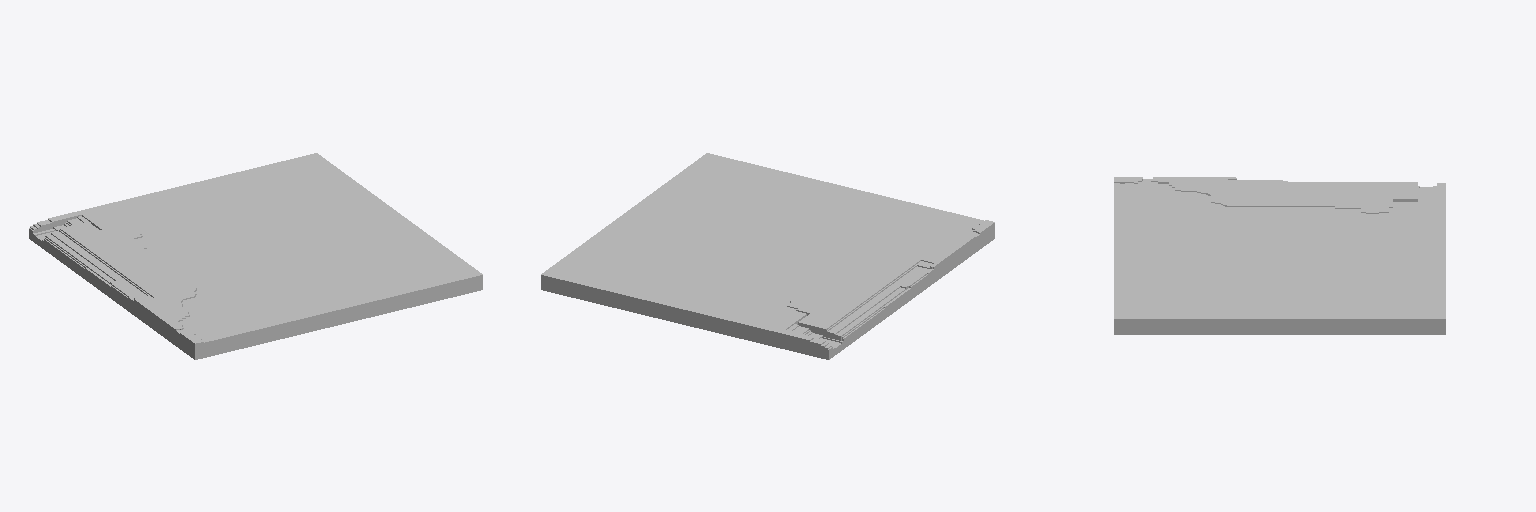
File: lvl1-4.obj
3 views of the same model, side by side, from view 1: azimuth 30°, elevation 25°; view 2: azimuth 150°, elevation 25°; view 3: azimuth 270°, elevation 25° (orthographic).
Visible parts, largest first — view 1: object 1; view 2: object 1; view 3: object 1.
Part boxes in pixels (left/top/right/bottom): object 1: left=29, top=153, right=482, bottom=359; object 1: left=541, top=153, right=994, bottom=359; object 1: left=1114, top=177, right=1445, bottom=334.
Bounding box in the file's own units: 25.6 × 1.4 × 25.6.